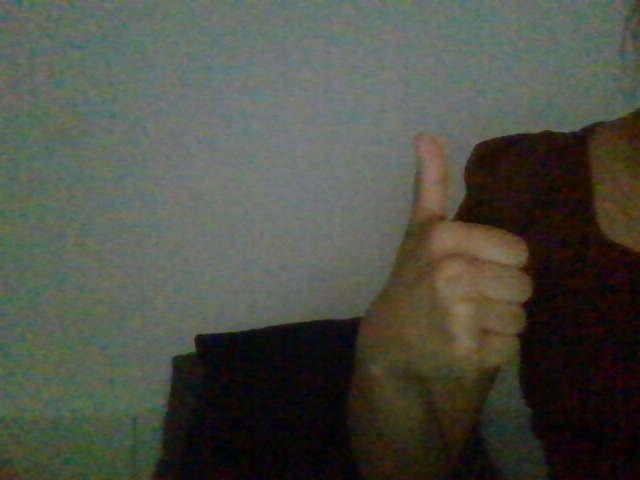Thumbs up: (353, 123, 552, 395)
